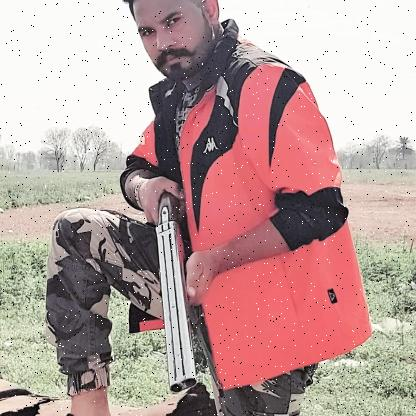rifle: (153, 187, 200, 394)
